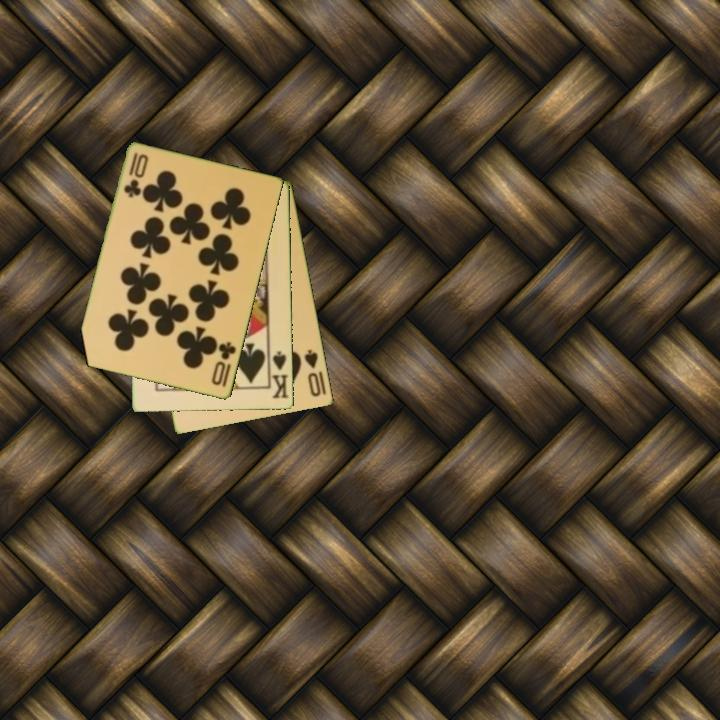10c: (208, 338, 239, 390), (120, 149, 142, 201)
10s: (301, 346, 324, 400)
Ks: (266, 347, 292, 402)
